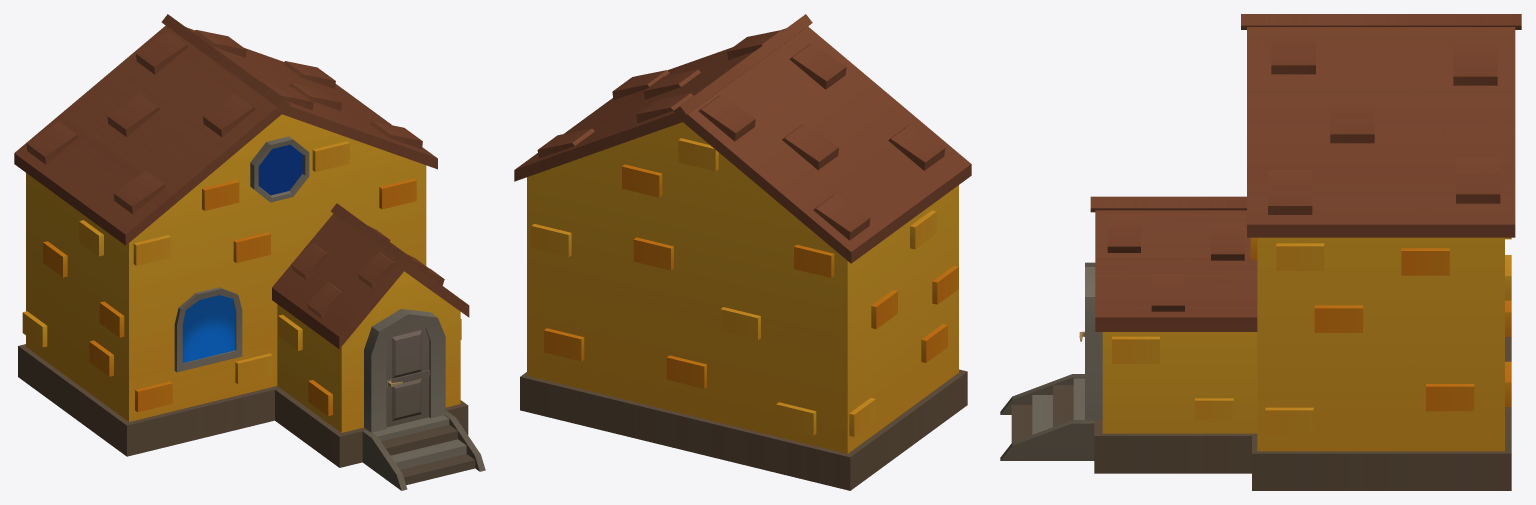
Rendered from SM_House_4.FBX.
3 views of the same model, side by side, from view 1: azimuth 30°, elevation 25°; view 2: azimuth 150°, elevation 25°; view 3: azimuth 270°, elevation 25° (orthographic). The views are drawn at different scales.
Parts seen in each view (by area): view 1: SM_House_4; view 2: SM_House_4; view 3: SM_House_4.
Boxes of the visible parts, bbox=[...] form: SM_House_4: bbox=[14, 14, 485, 490]; SM_House_4: bbox=[514, 14, 971, 490]; SM_House_4: bbox=[1000, 14, 1521, 490].
Size of what is drawn, in the model's own units: 630 by 757 by 622.
